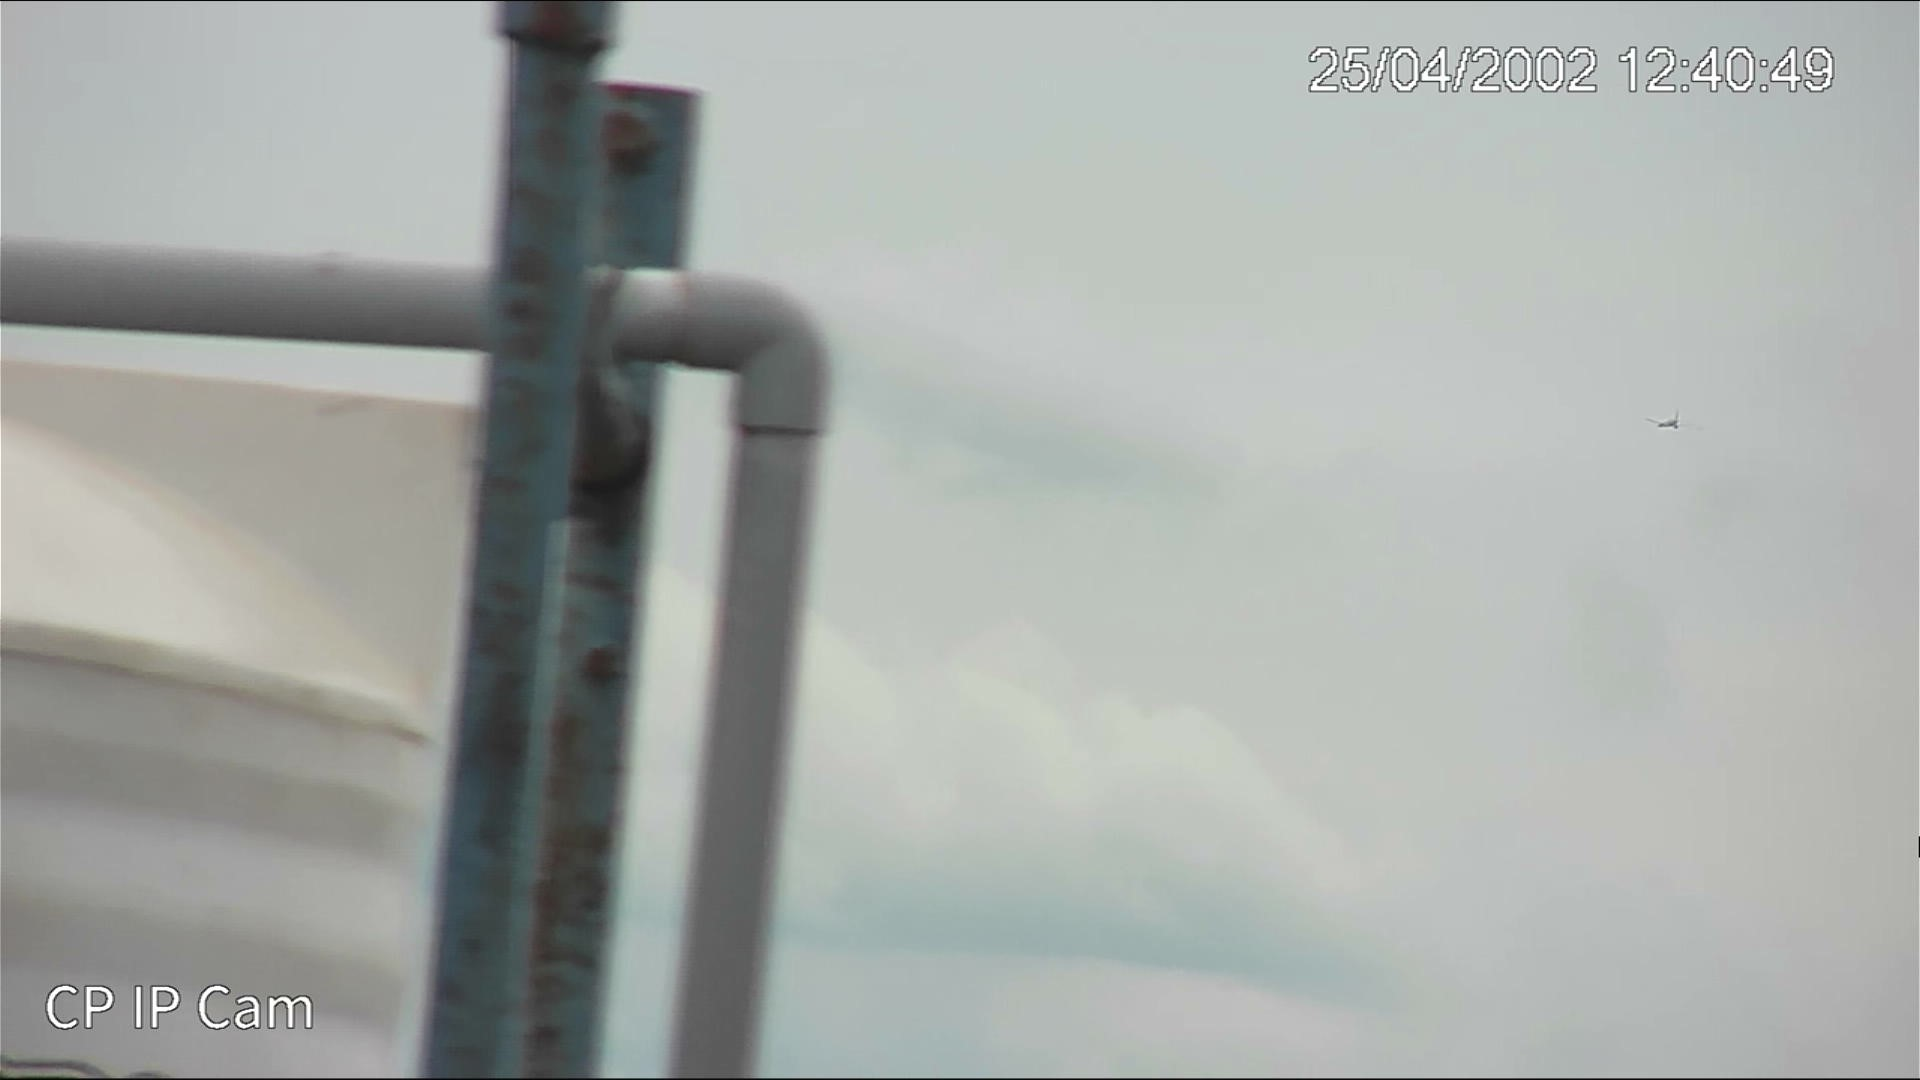SU_30: (1642, 411, 1684, 430)
